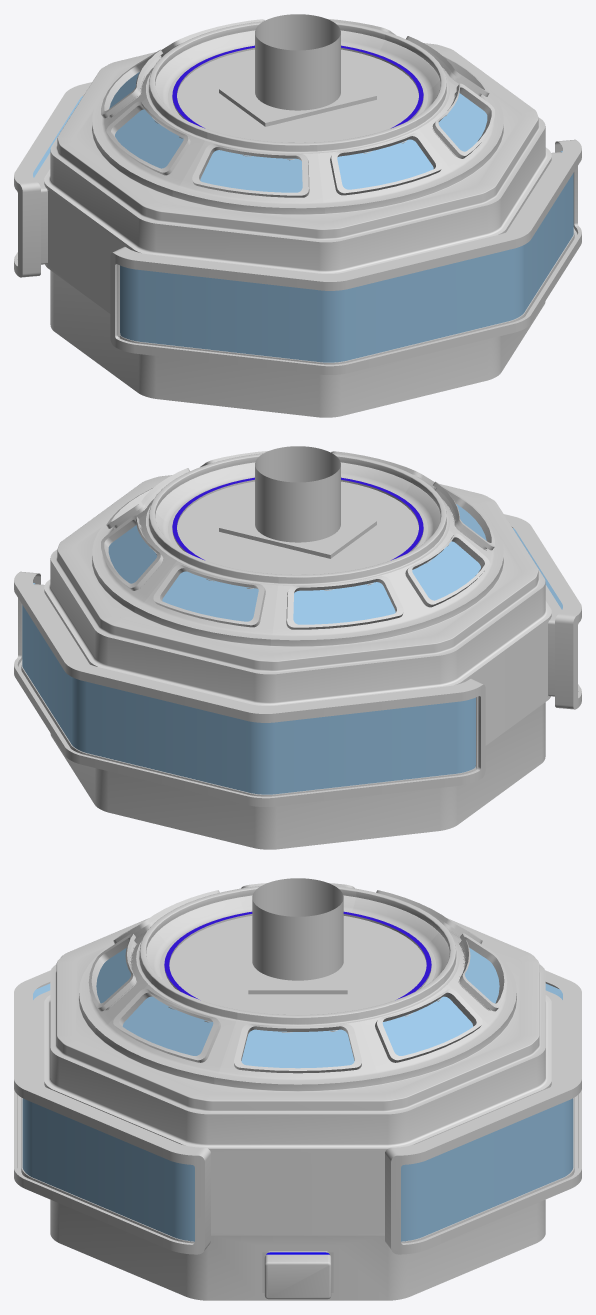
The model's file is FBX_SS_Module3_6x6.fbx.
The picture shows the model from 3 angles, top to bottom: view 1: azimuth 30°, elevation 25°; view 2: azimuth 150°, elevation 25°; view 3: azimuth 270°, elevation 25°; orthographic projection. The views are drawn at different scales.
Visible parts, largest first — view 1: Ceiling_Windowed.003, Walls_Plain.002, 360Windows, Ceiling_InnerFace, Walls_Plain; view 2: Ceiling_Windowed.003, Walls_Plain.002, 360Windows, Ceiling_InnerFace, Walls_Plain; view 3: Ceiling_Windowed.003, Walls_Plain.002, 360Windows, Ceiling_InnerFace, Walls_Plain, Walls_Plain.004.
Boxes of the visible parts, x1,y1,x2,y2 form: Ceiling_Windowed.003: (50,19,545,242); Walls_Plain.002: (44,126,551,417); 360Windows: (33,96,573,362); Ceiling_InnerFace: (168,14,427,142); Walls_Plain: (14,82,581,374); Ceiling_Windowed.003: (50,451,545,674); Walls_Plain.002: (44,558,551,849); 360Windows: (22,528,562,794); Ceiling_InnerFace: (168,446,427,574); Walls_Plain: (14,514,581,806); Ceiling_Windowed.003: (50,883,545,1114); Walls_Plain.002: (44,995,551,1300); 360Windows: (22,983,573,1241); Ceiling_InnerFace: (159,878,436,1014); Walls_Plain: (14,970,581,1254); Walls_Plain.004: (262,1254,333,1299).
Bounding box in the file's own units: 746 × 533 × 746.
